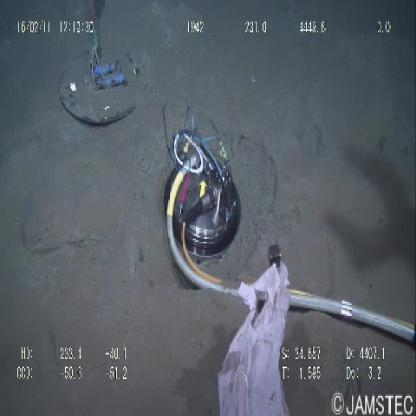Rov: (158, 99, 244, 302), (56, 2, 145, 132)
Rác: (218, 254, 292, 414)
